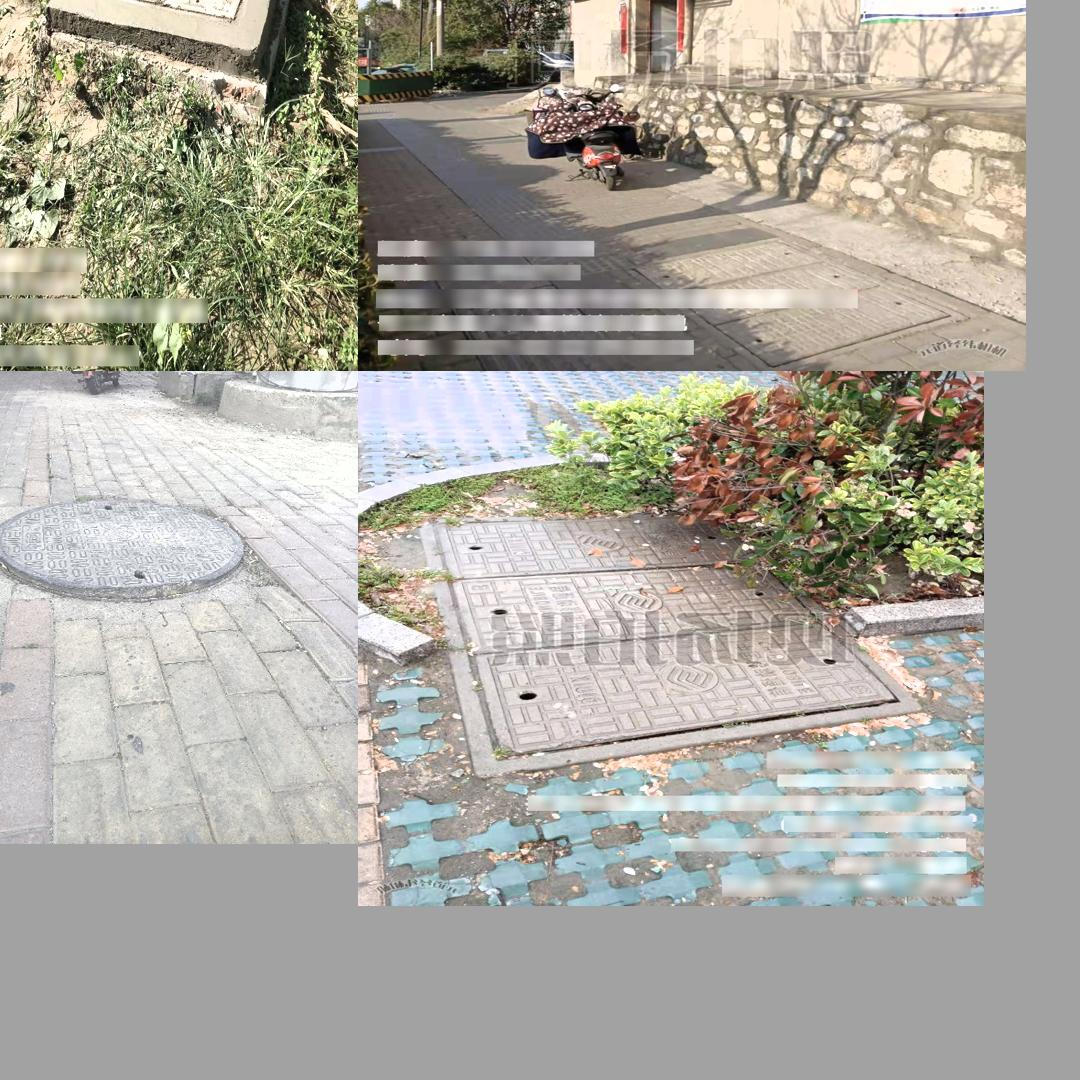good: (418, 516, 923, 775), (629, 239, 971, 369), (0, 496, 243, 600), (85, 0, 259, 25)
